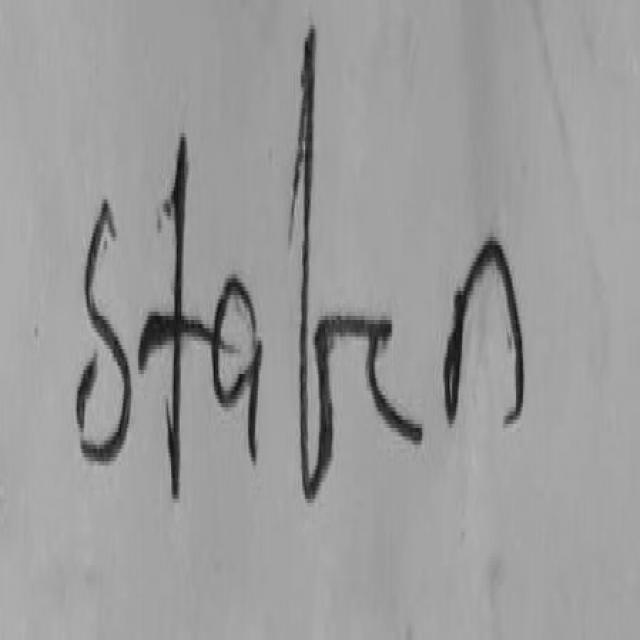S: (81, 199, 131, 459), (76, 357, 96, 430)
a: (214, 278, 262, 459)
e: (368, 320, 423, 438)
f: (291, 25, 365, 497)
n: (445, 241, 525, 422)
t: (138, 133, 214, 497)
